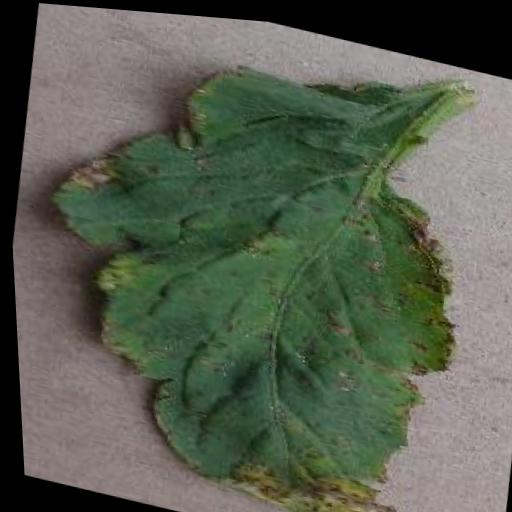Bacterial Spot: (0, 2, 497, 512)
